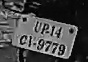1: (48, 26, 56, 36)
4: (55, 25, 62, 39)
7: (43, 41, 52, 53), (50, 42, 58, 55)
9: (58, 44, 65, 58), (36, 39, 44, 51)
C: (19, 35, 27, 45)
P: (41, 23, 49, 34)
U: (33, 20, 42, 32)
V: (27, 35, 35, 48)
